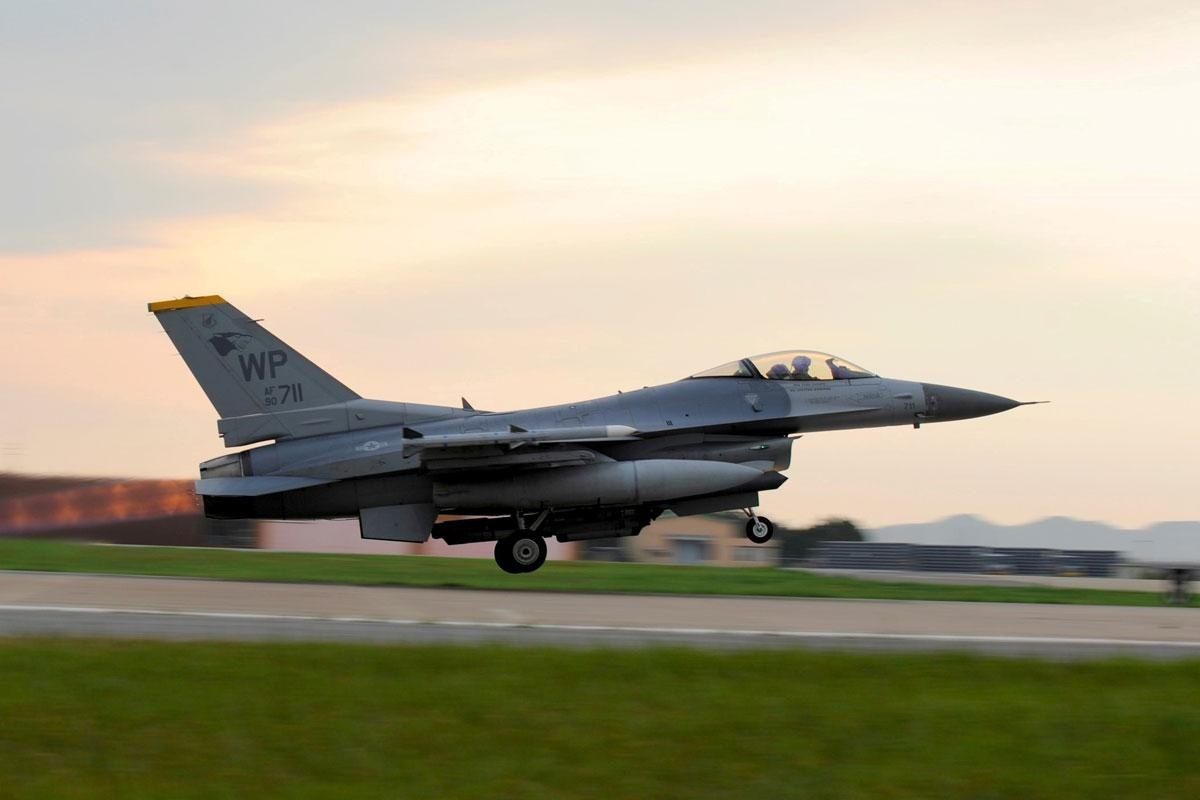aircraft: (142, 292, 1024, 568)
